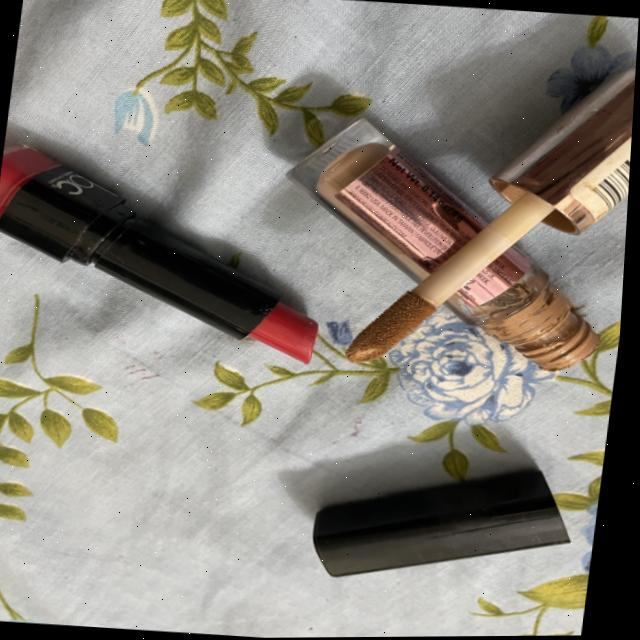concealer: (338, 128, 634, 406), (325, 271, 478, 390)
lip stick: (0, 141, 347, 385)
